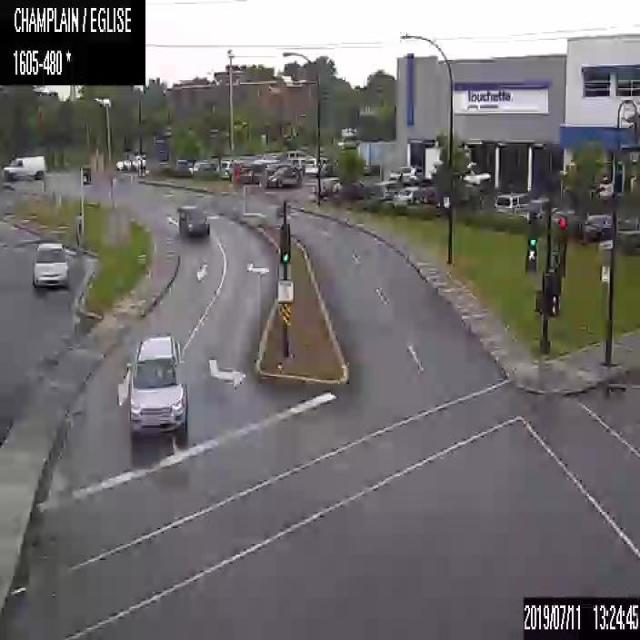vehicle: (128, 333, 188, 439), (424, 144, 491, 186), (32, 240, 68, 288), (1, 153, 44, 180), (178, 204, 209, 236), (494, 191, 532, 212), (264, 164, 300, 186), (526, 196, 556, 221), (583, 213, 611, 238), (603, 218, 635, 238), (237, 161, 266, 182), (390, 164, 422, 183), (217, 158, 244, 180), (314, 174, 340, 196), (373, 179, 401, 199), (392, 186, 419, 204), (412, 185, 434, 204), (303, 155, 327, 172), (253, 152, 280, 163), (127, 152, 145, 168), (286, 148, 304, 164), (192, 161, 214, 171), (116, 156, 131, 170), (175, 158, 188, 169)
